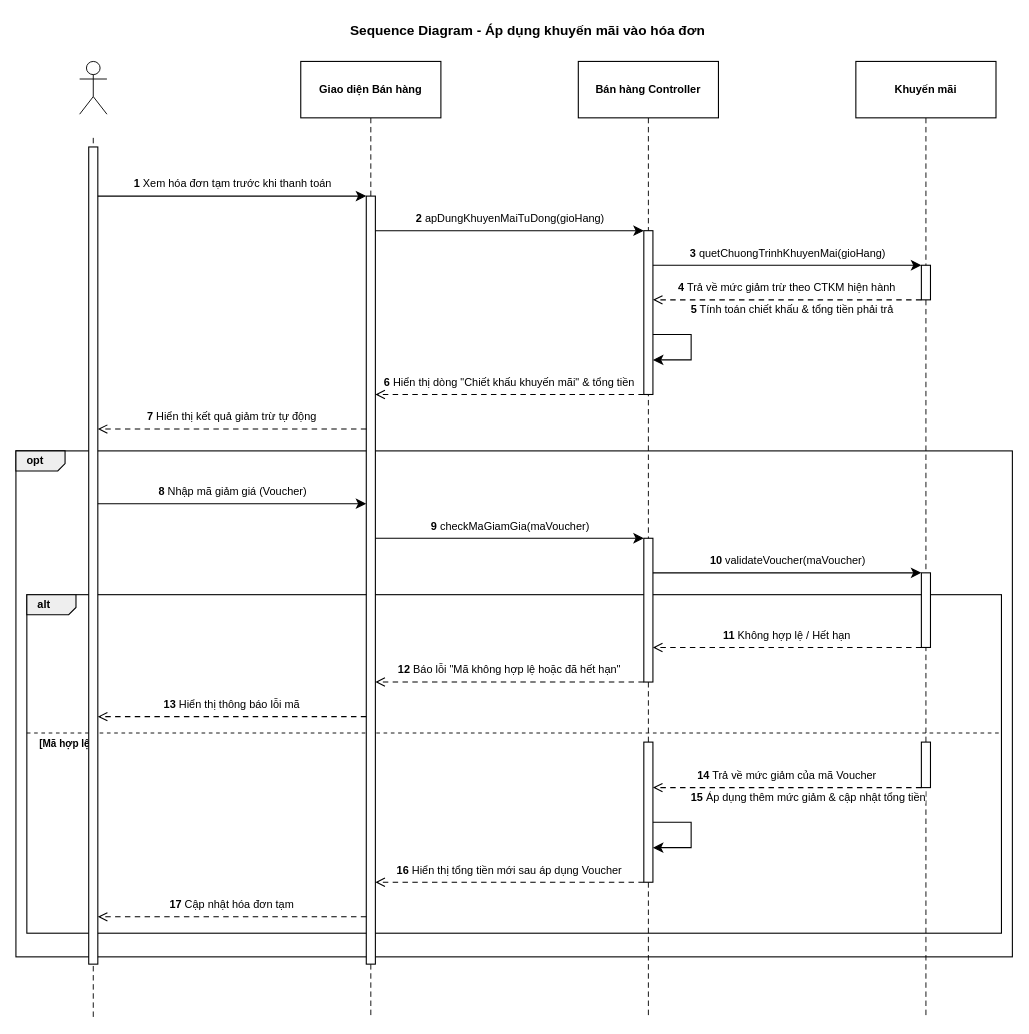
The diagram is 1029 pixels wide and 1034 high, and some of its shapes have lost their labels. The shapes that lost their labels are listed below. From the top down, each one's centre as x and y in pixels, then its label:
At (93,87): "Nhân viên bán hàng".
At (215,460): "[Khách hàng cung cấp mã giảm giá (Voucher)]".
At (184,604): "[Mã không hợp lệ / Đã hết hạn]".
